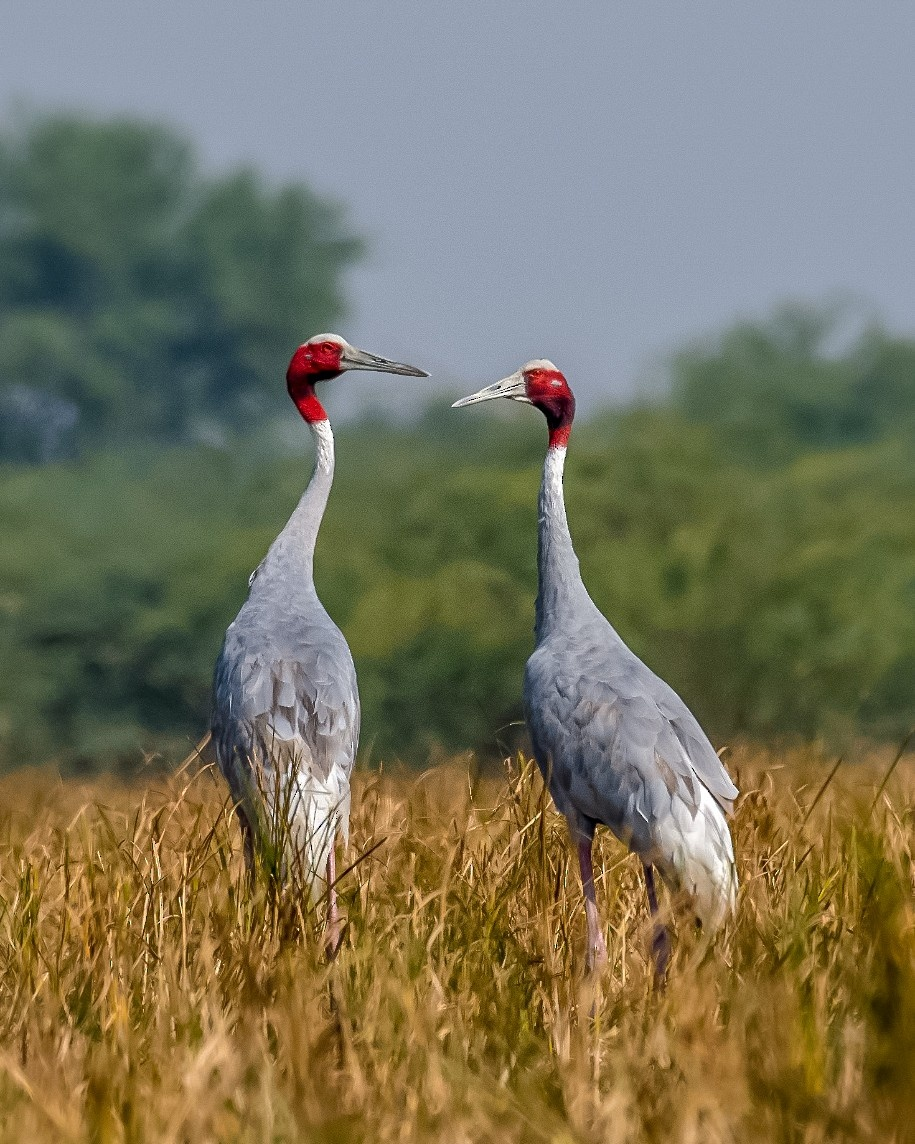crane: (452, 337, 749, 1008), (185, 319, 435, 973)
